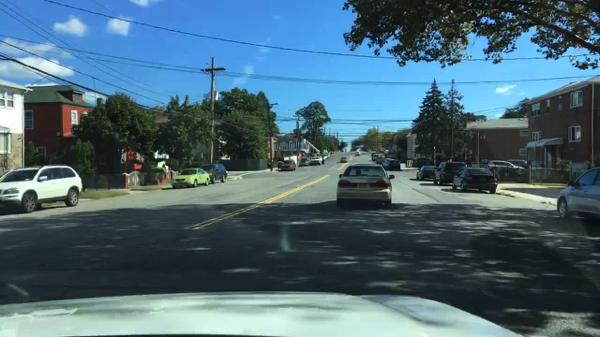car: (0, 163, 84, 213), (335, 162, 395, 209), (555, 165, 599, 220), (452, 166, 498, 194), (169, 167, 211, 190), (432, 161, 467, 186), (200, 162, 228, 184), (485, 160, 525, 172), (415, 165, 438, 180), (505, 159, 529, 169), (279, 159, 297, 172), (383, 159, 401, 172), (381, 157, 395, 169), (308, 156, 321, 167), (297, 158, 310, 168), (378, 157, 388, 165), (339, 156, 348, 163), (370, 153, 379, 160), (319, 155, 326, 163), (374, 157, 382, 164), (371, 154, 378, 161), (353, 151, 361, 157), (370, 150, 378, 156), (321, 154, 328, 160), (322, 154, 330, 159), (378, 154, 385, 159), (323, 152, 331, 156)
